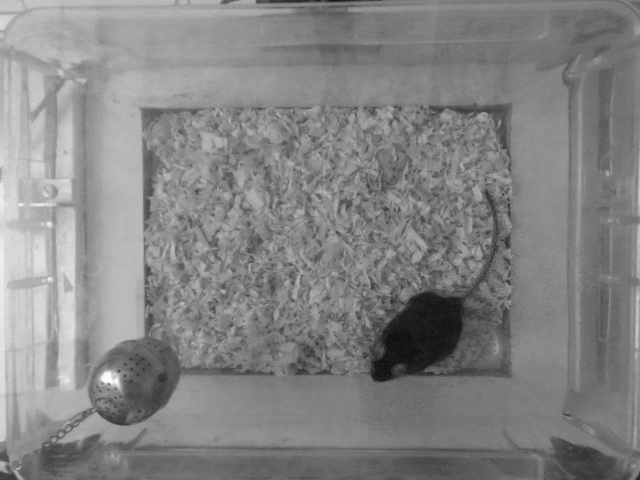mice: (380, 185, 501, 378)
